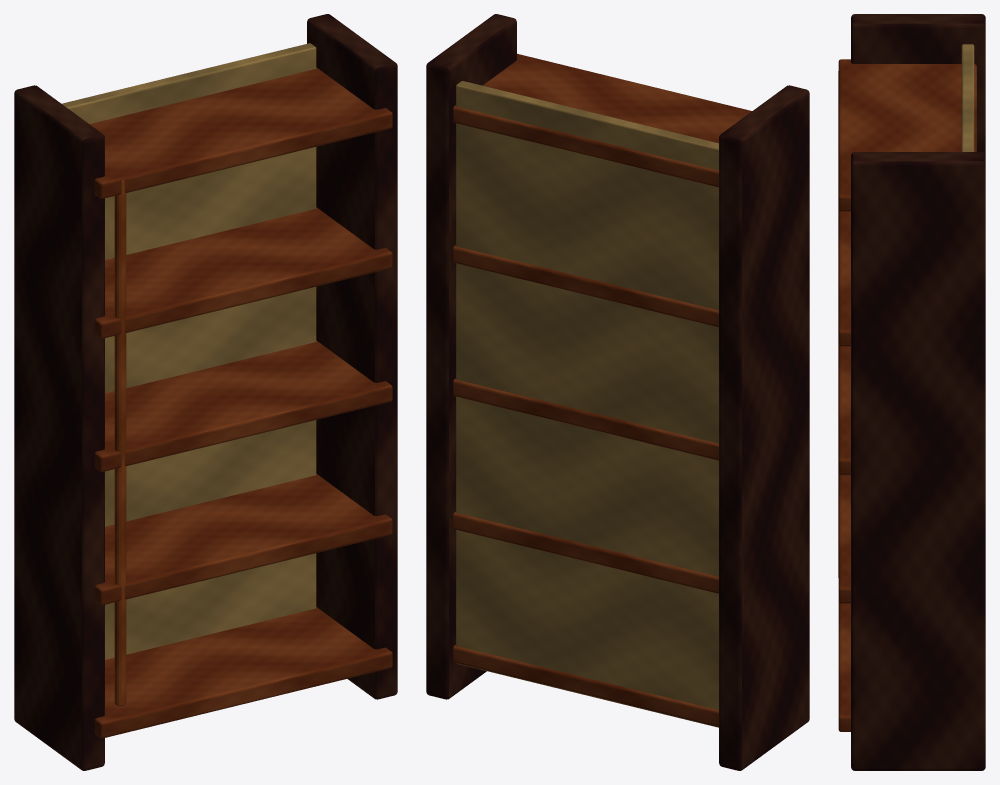
The model's file is bookcase-pbr-v1.glb.
3 views of the same model, side by side, from view 1: azimuth 30°, elevation 25°; view 2: azimuth 150°, elevation 25°; view 3: azimuth 270°, elevation 25° (orthographic). The views are drawn at different scales.
Visible parts, largest first — view 1: bookcase-left-upright, bookcase-back, bookcase-right-upright, bookcase-shelf-4, bookcase-shelf-0, bookcase-shelf-1, bookcase-shelf-2, bookcase-shelf-3, bookcase-brass-side-rail; view 2: bookcase-back, bookcase-left-upright, bookcase-right-upright, bookcase-shelf-4, bookcase-shelf-2, bookcase-shelf-1, bookcase-shelf-3, bookcase-shelf-0; view 3: bookcase-right-upright, bookcase-shelf-4, bookcase-left-upright, bookcase-shelf-3, bookcase-shelf-1, bookcase-shelf-0, bookcase-shelf-2, bookcase-back, bookcase-brass-side-rail.
Part boxes in pixels (x1,y1,x2,y2): bookcase-left-upright: [14, 85, 104, 770]; bookcase-back: [62, 43, 316, 659]; bookcase-right-upright: [307, 14, 397, 699]; bookcase-shelf-4: [89, 67, 392, 198]; bookcase-shelf-0: [94, 607, 392, 738]; bookcase-shelf-1: [94, 474, 392, 605]; bookcase-shelf-2: [94, 340, 392, 471]; bookcase-shelf-3: [94, 207, 392, 338]; bookcase-brass-side-rail: [114, 180, 126, 706]; bookcase-back: [456, 81, 718, 727]; bookcase-left-upright: [719, 85, 809, 770]; bookcase-right-upright: [426, 14, 516, 699]; bookcase-shelf-4: [453, 53, 751, 187]; bookcase-shelf-2: [453, 378, 718, 460]; bookcase-shelf-1: [453, 511, 718, 593]; bookcase-shelf-3: [453, 245, 718, 327]; bookcase-shelf-0: [453, 645, 718, 726]; bookcase-right-upright: [851, 152, 985, 770]; bookcase-shelf-4: [838, 59, 976, 211]; bookcase-left-upright: [851, 14, 985, 154]; bookcase-shelf-3: [838, 210, 850, 346]; bookcase-shelf-1: [838, 473, 850, 603]; bookcase-shelf-0: [838, 602, 850, 731]; bookcase-shelf-2: [838, 345, 850, 474]; bookcase-back: [961, 44, 974, 151]; bookcase-brass-side-rail: [838, 71, 838, 577].
Size of the model in its own units: 0.995 by 1.9 by 0.416.
Materials: 4 (4 with a texture image).
